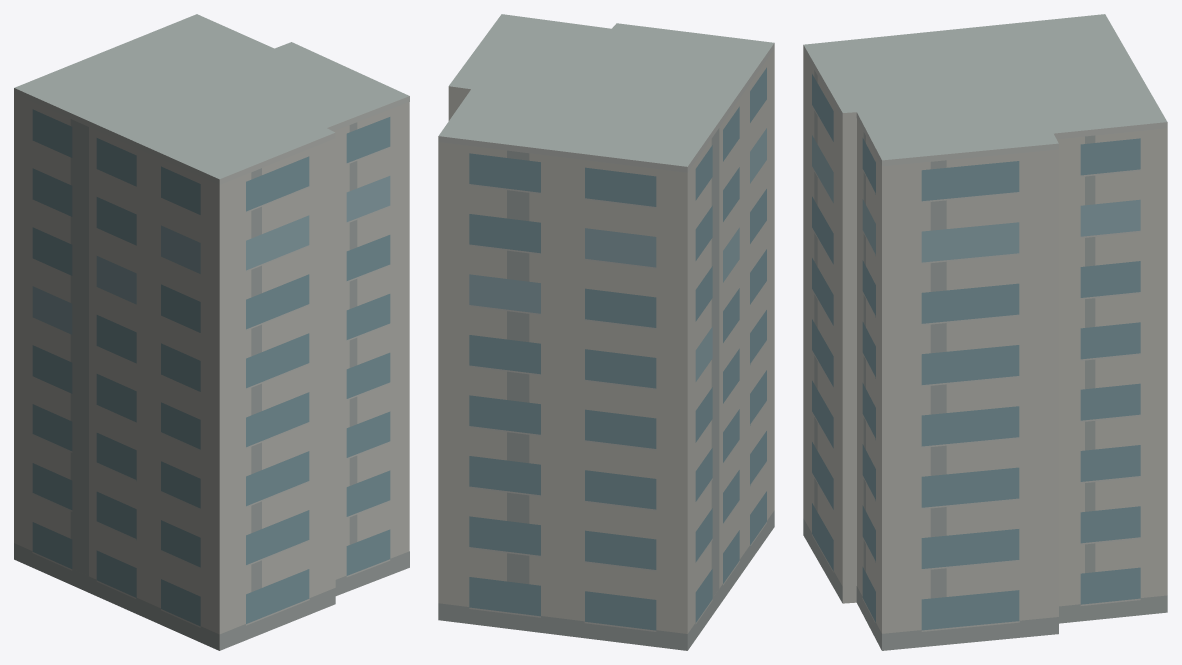
The model's file is survey-upis-32801396.glb.
The picture shows the model from 3 angles, left to right: view 1: azimuth 30°, elevation 25°; view 2: azimuth 150°, elevation 25°; view 3: azimuth 270°, elevation 25°; orthographic projection. The views are drawn at different scales.
Parts seen in each view (by area): view 1: survey-upis-32801396.tmp; view 2: survey-upis-32801396.tmp; view 3: survey-upis-32801396.tmp.
Part boxes in pixels (x1=…): survey-upis-32801396.tmp: x1=14, y1=14, x2=409, y2=650; survey-upis-32801396.tmp: x1=438, y1=14, x2=774, y2=650; survey-upis-32801396.tmp: x1=803, y1=14, x2=1167, y2=650.
Size of the model in its own units: 12.62 by 19.7 by 13.26.
